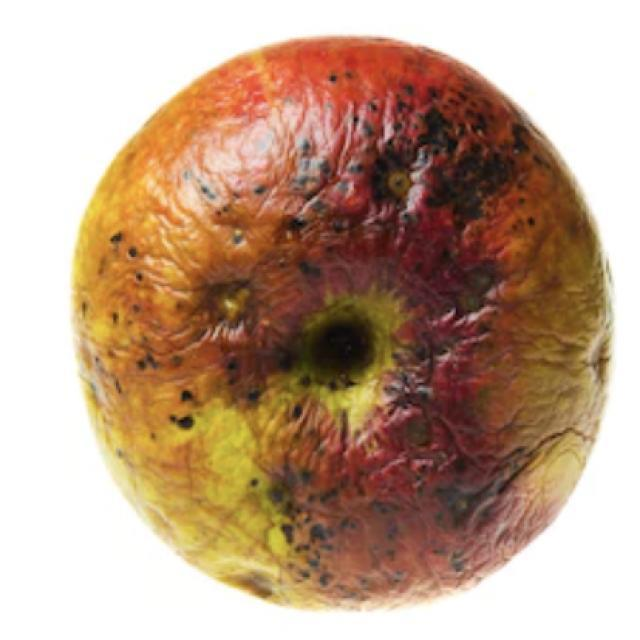Rotten: (65, 29, 615, 614)
